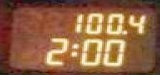-: (120, 28, 130, 35)
0: (78, 36, 100, 65), (103, 38, 125, 67), (103, 10, 122, 34), (83, 11, 102, 34)
1: (73, 10, 82, 33)
2: (42, 35, 67, 65)
4: (126, 13, 145, 33)
X: (68, 40, 78, 57)
